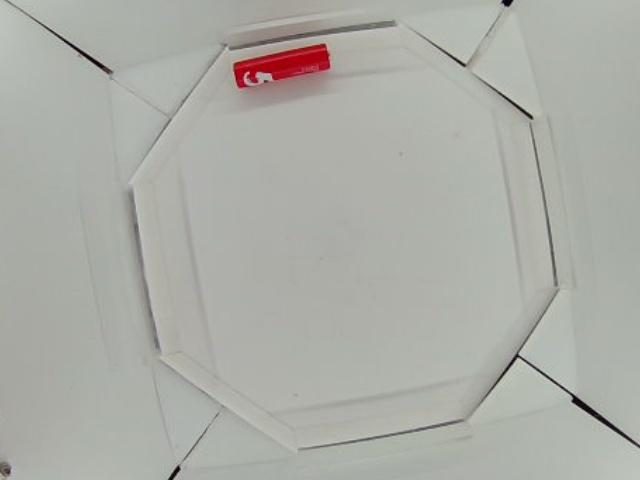Battery: (232, 43, 330, 87)
